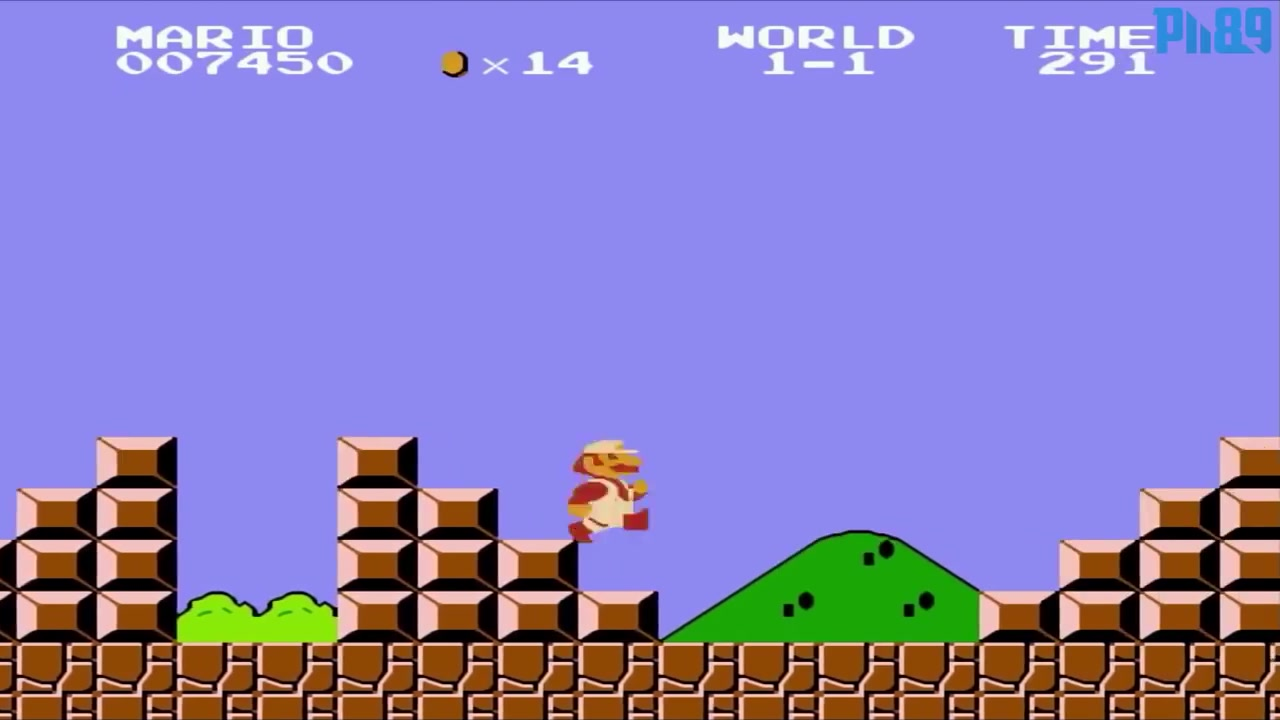mario: (562, 431, 659, 554)
